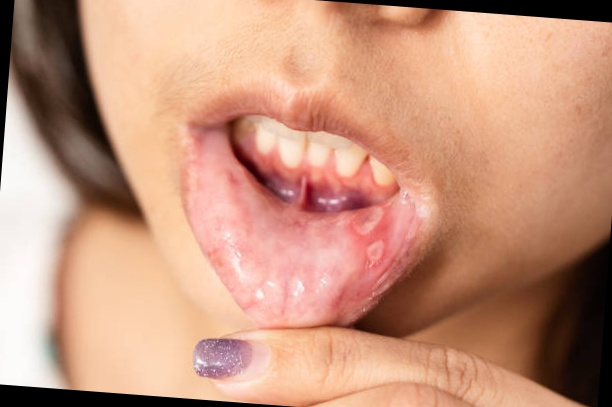Ulcer: (345, 205, 396, 275)
